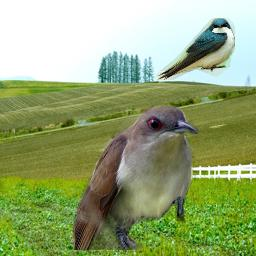Cuckoo: (73, 105, 199, 250)
Swallow: (156, 18, 235, 80)
